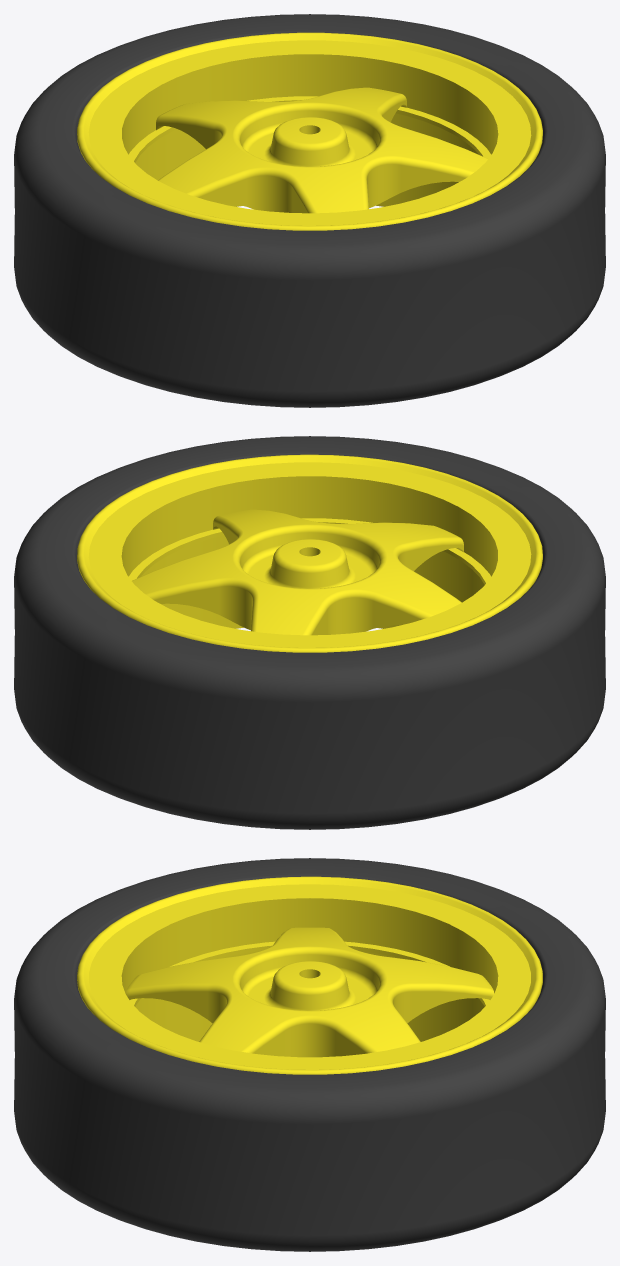
File: wheel_left.obj
3 renders of one model, top to bottom at view 1: azimuth 30°, elevation 25°; view 2: azimuth 150°, elevation 25°; view 3: azimuth 270°, elevation 25°, orthographic.
Visible parts, largest first — view 1: wheel_left; view 2: wheel_left; view 3: wheel_left.
Boxes of the visible parts, box(x1,y1,x2,y2) form: wheel_left: box(14, 14, 605, 407); wheel_left: box(14, 436, 605, 829); wheel_left: box(14, 858, 605, 1251).
Bounding box in the file's own units: 0.066 × 0.025 × 0.066.
